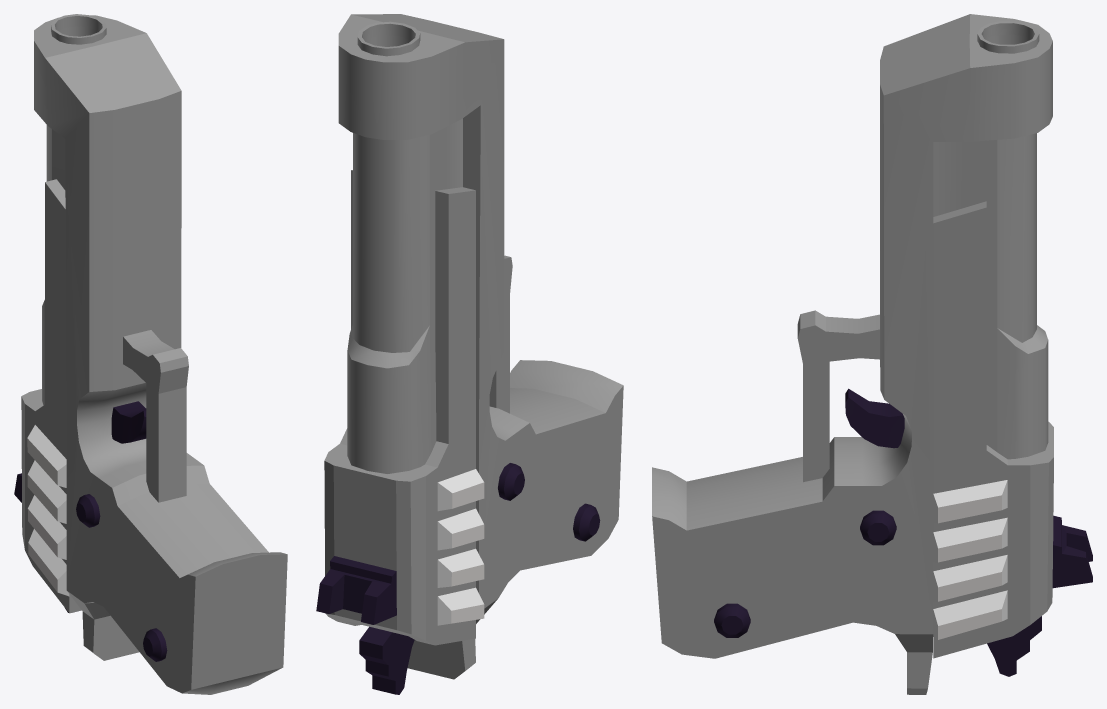
Rendered from Pistol.fbx.
The picture shows the model from 3 angles, left to right: view 1: azimuth 30°, elevation 25°; view 2: azimuth 150°, elevation 25°; view 3: azimuth 270°, elevation 25°; orthographic projection. The views are drawn at different scales.
Parts seen in each view (by area): view 1: Pistol01_mesh; view 2: Pistol01_mesh; view 3: Pistol01_mesh.
Part boxes in pixels (<box>): Pistol01_mesh: <box>14,14,287,694</box>; Pistol01_mesh: <box>316,14,623,694</box>; Pistol01_mesh: <box>652,14,1092,694</box>.
Bounding box in the file's own units: 930 × 4650 × 2857.
